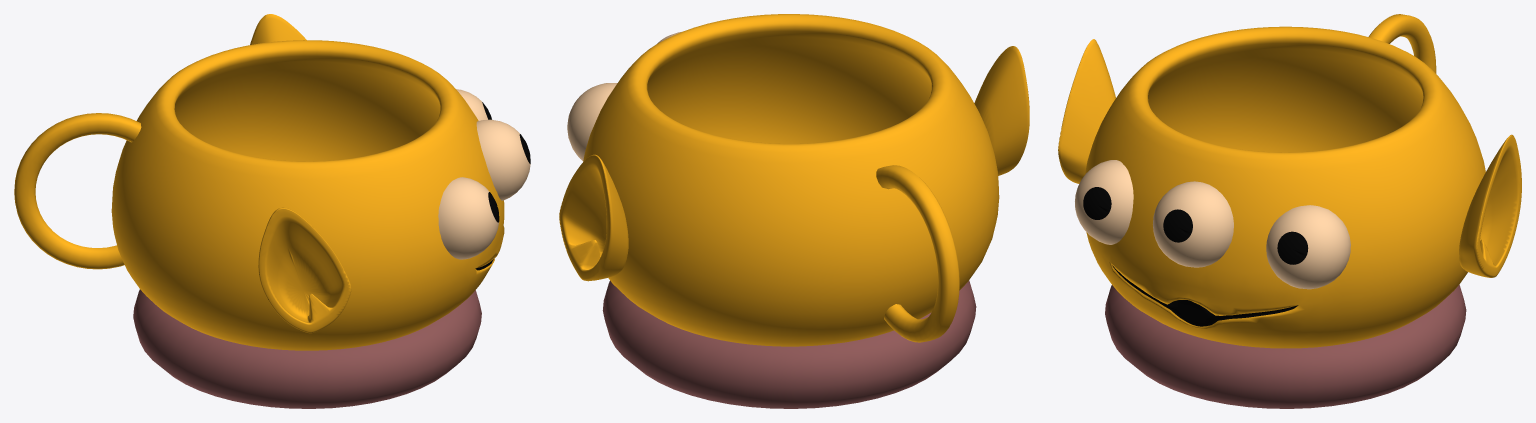
Rendered from ToyObject_036.fbx.
3 renders of one model, left to right at view 1: azimuth 30°, elevation 25°; view 2: azimuth 150°, elevation 25°; view 3: azimuth 270°, elevation 25°, orthographic. The views are drawn at different scales.
Visible parts, largest first — view 1: object-1.022; view 2: object-1.022; view 3: object-1.022.
Part boxes in pixels (<box>): object-1.022: <box>14,14,530,408</box>; object-1.022: <box>559,14,1029,408</box>; object-1.022: <box>1058,14,1521,408</box>.
Bounding box in the file's own units: 0.1684 × 0.0946 × 0.1567.
